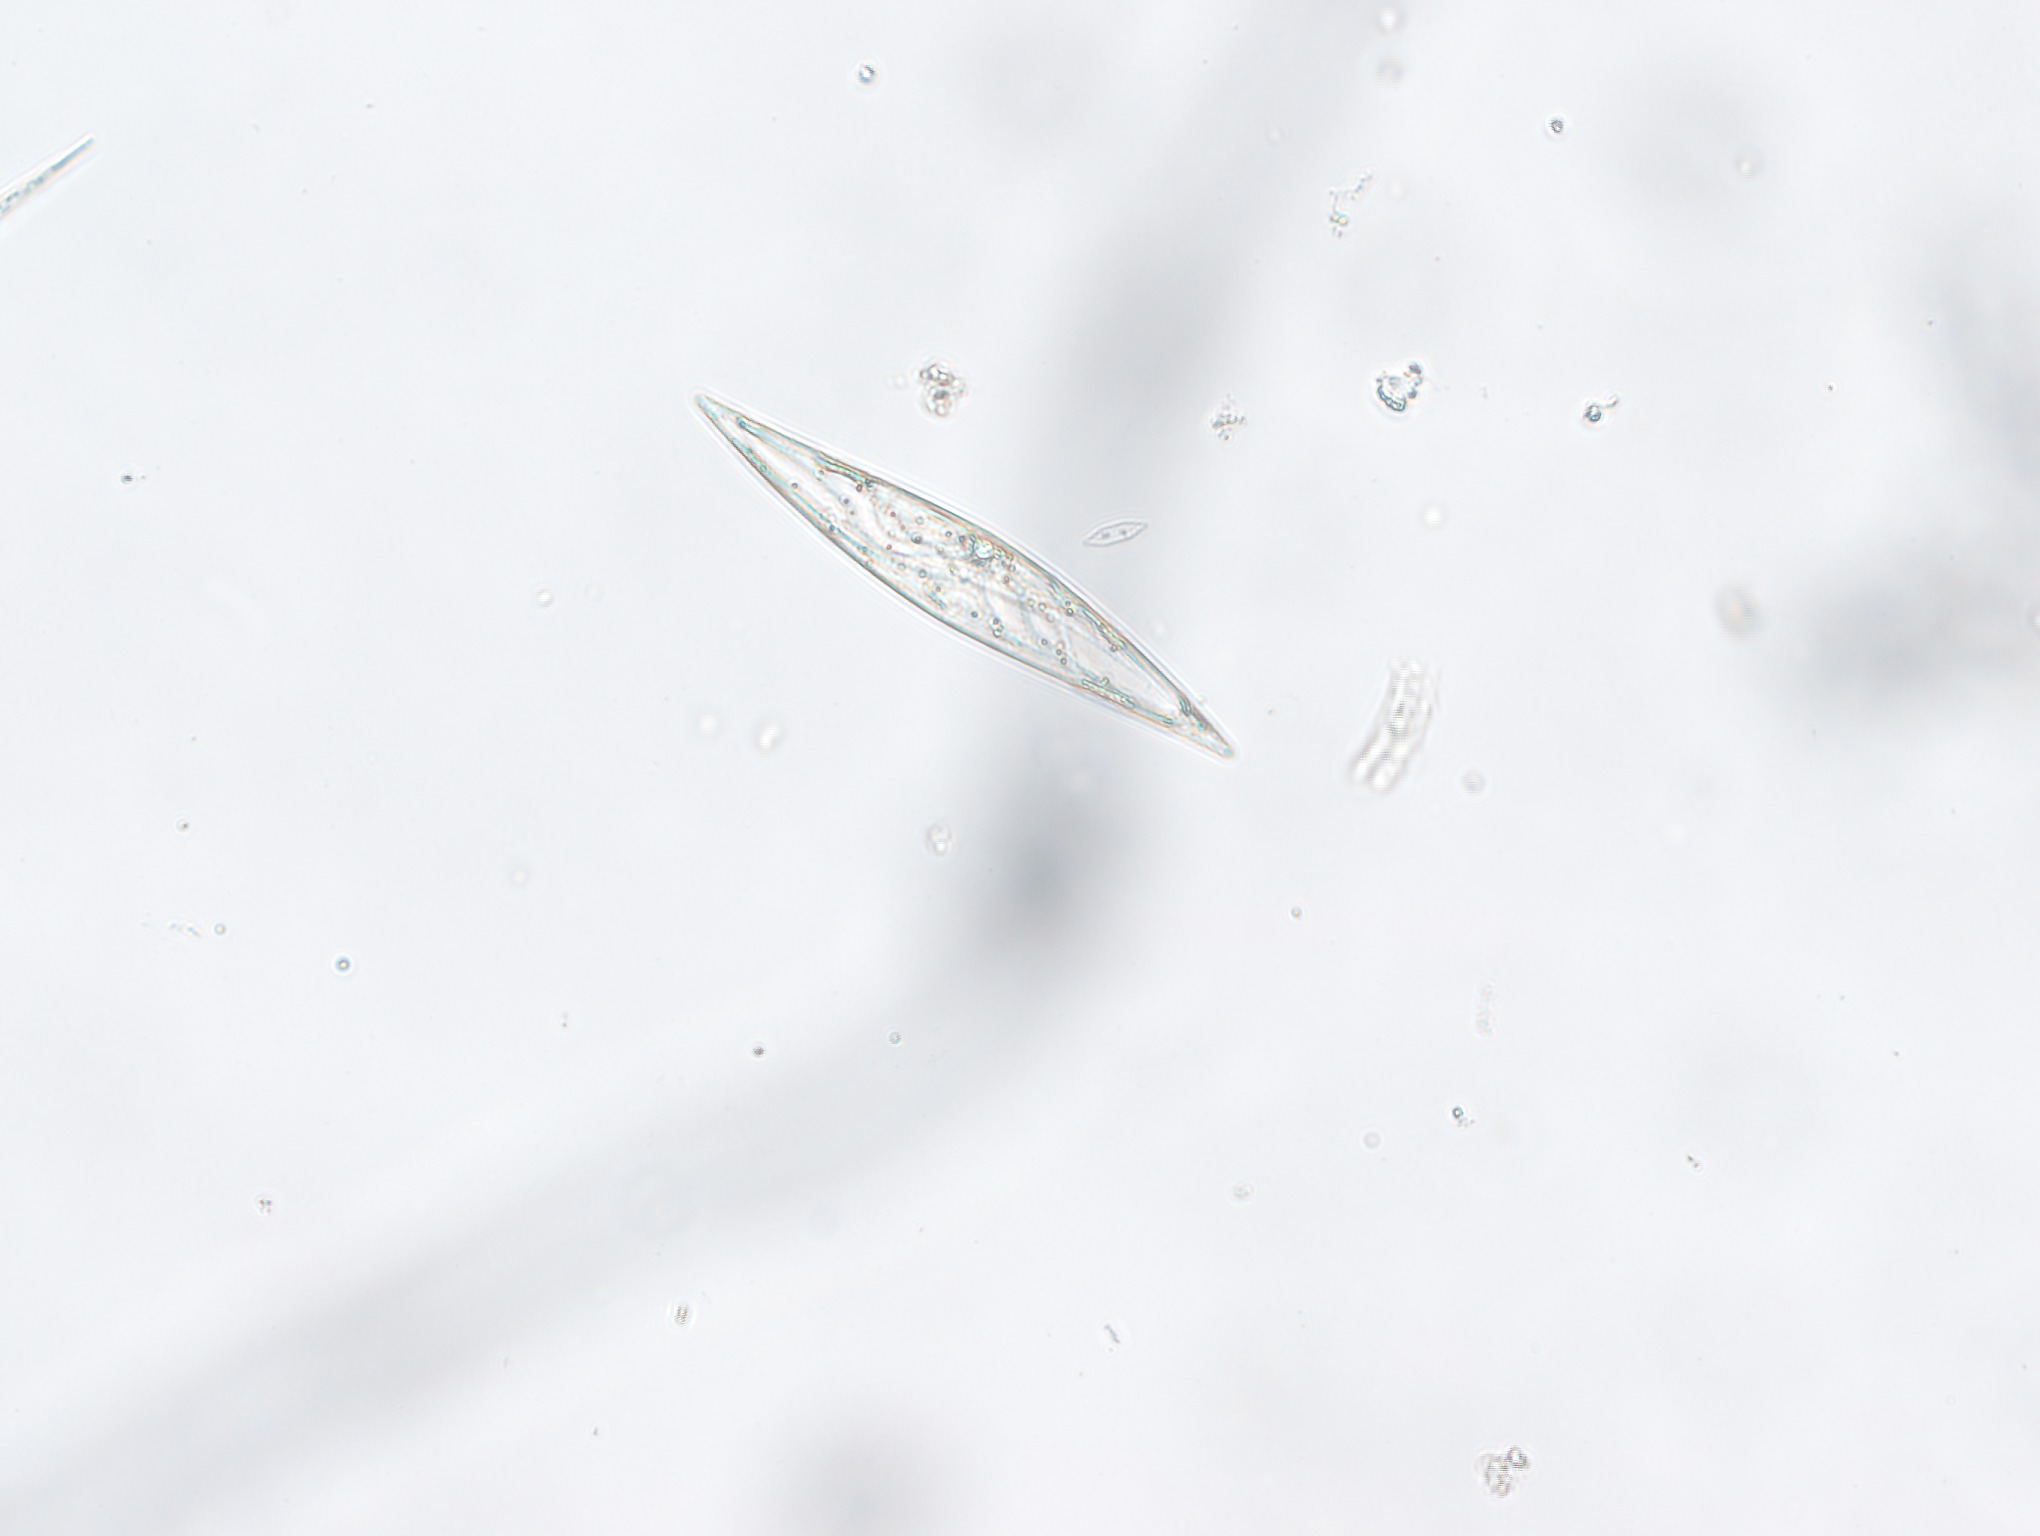pleurosigma pelagicum: (685, 381, 1259, 783)
